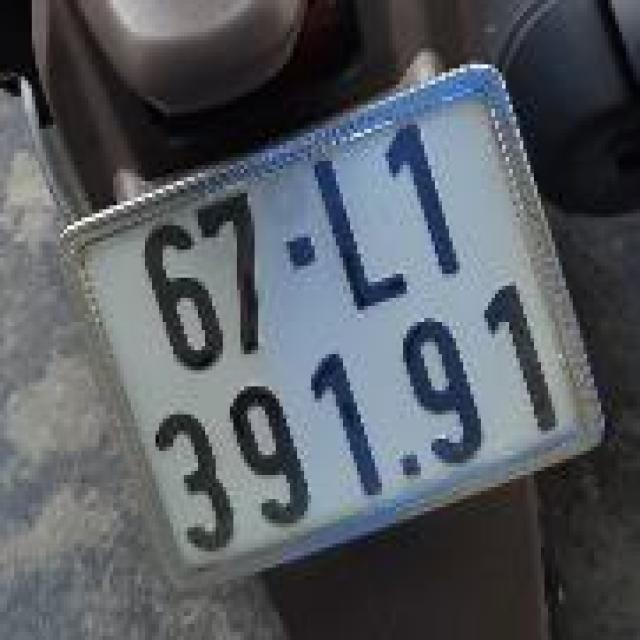1: (364, 112, 479, 295), (470, 269, 572, 448), (293, 342, 397, 510)
3: (145, 399, 249, 564)
6: (131, 209, 233, 384)
7: (187, 185, 283, 370)
9: (388, 306, 497, 478), (212, 370, 322, 538)
L: (300, 132, 423, 331)
